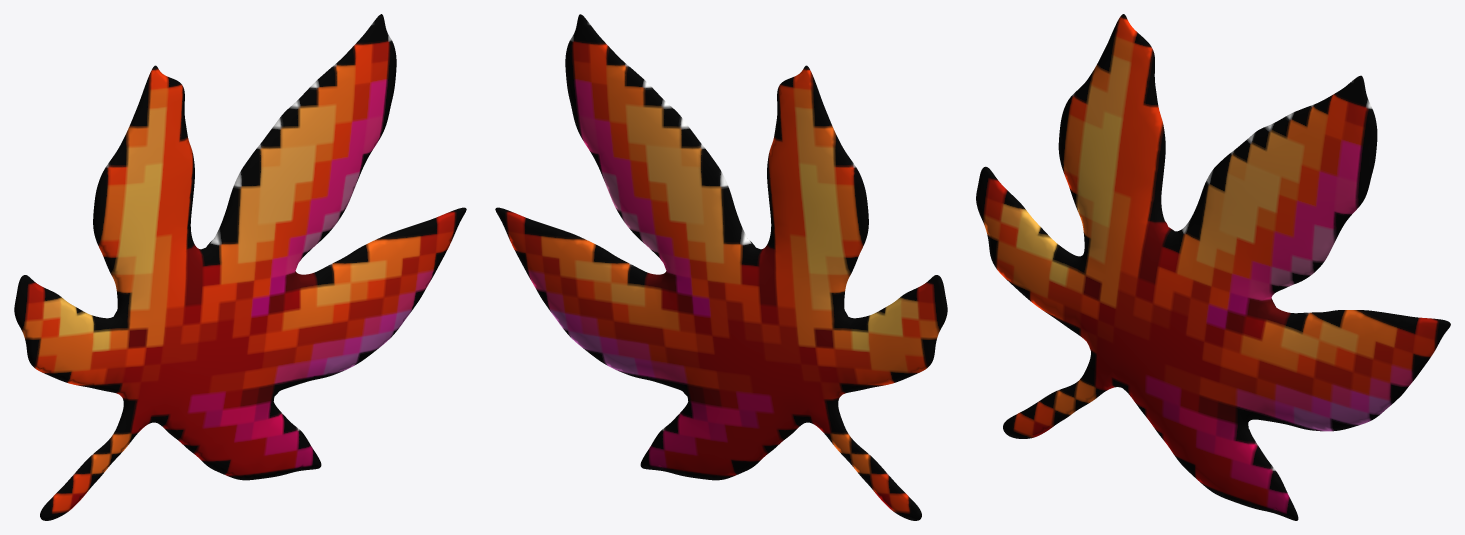
File: maple.gltf
The picture shows the model from 3 angles, left to right: view 1: azimuth 30°, elevation 25°; view 2: azimuth 150°, elevation 25°; view 3: azimuth 330°, elevation 25°; orthographic projection. The views are drawn at different scales.
Parts seen in each view (by area): view 1: Mesh_0; view 2: Mesh_0; view 3: Mesh_0.
Part boxes in pixels (x1,y1,x2,y2): Mesh_0: (14, 14, 466, 520); Mesh_0: (495, 14, 947, 520); Mesh_0: (976, 14, 1450, 520).
Size of the model in its own units: 2.89 by 2.7 by 0.2005.
Materials: 1 (1 with a texture image).
